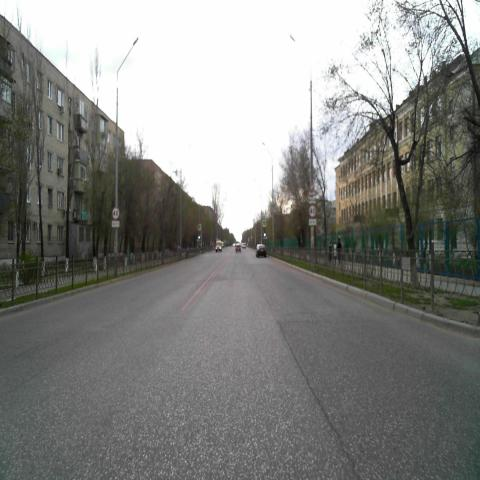1_23: (308, 183, 316, 196)
3_24: (112, 206, 120, 219), (309, 204, 315, 216)
8_2_1: (308, 196, 316, 204)
